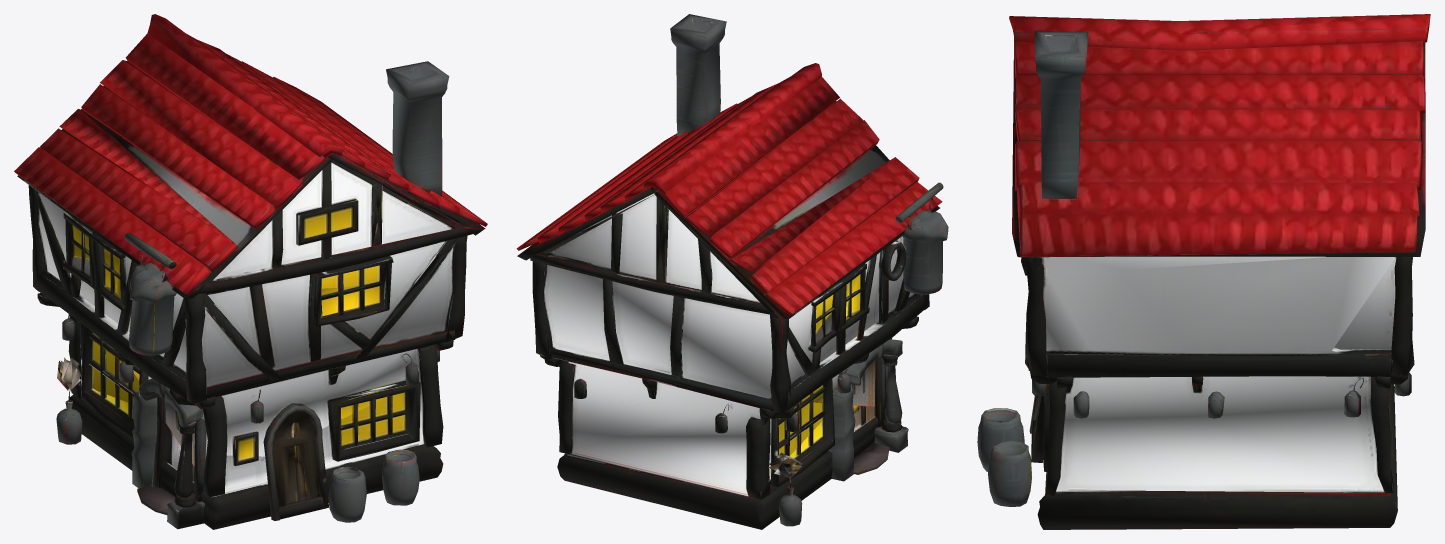
File: tavern.glb
3 views of the same model, side by side, from view 1: azimuth 30°, elevation 25°; view 2: azimuth 150°, elevation 25°; view 3: azimuth 270°, elevation 25° (orthographic). The views are drawn at different scales.
Size of the model in its own units: 0.8257 by 0.9512 by 0.8125.
Materials: 1 (1 with a texture image).
